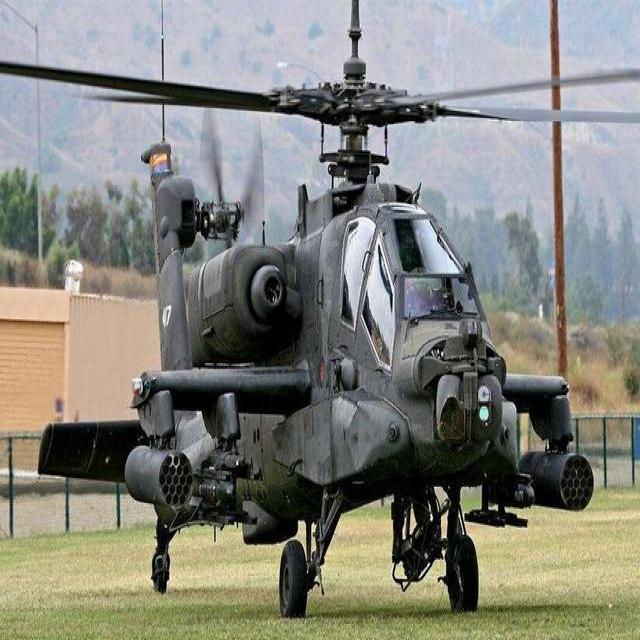MIL_HELO: (0, 20, 629, 614)
